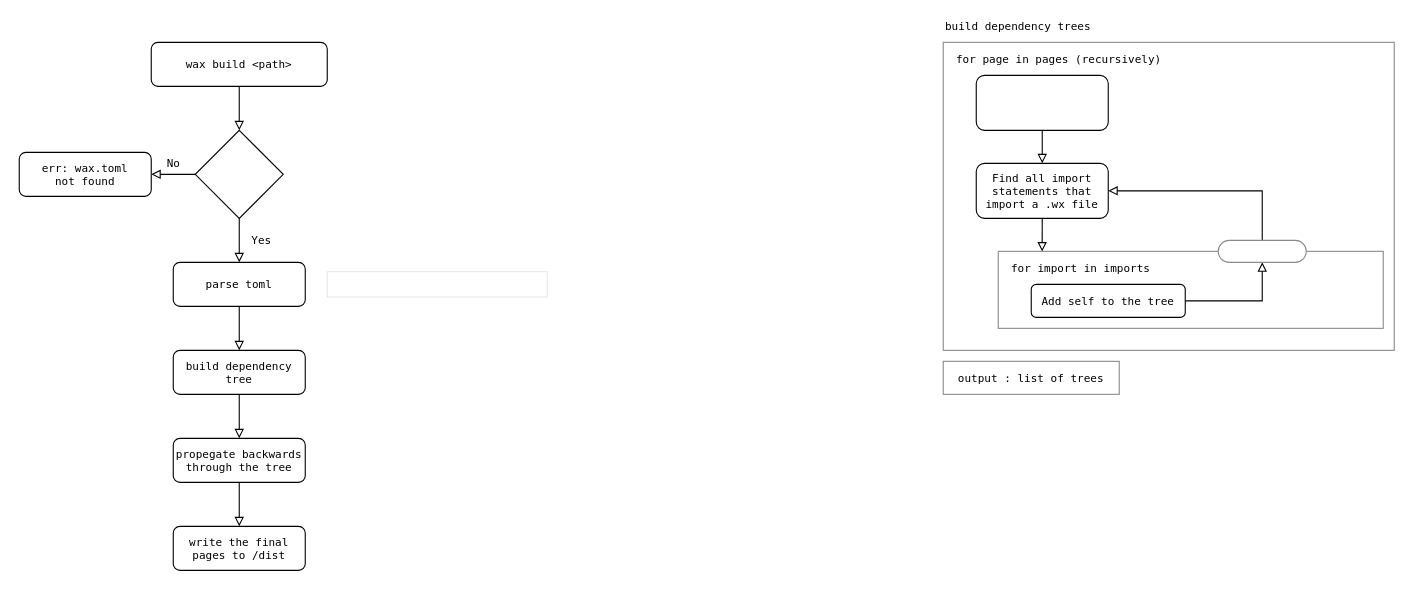
This 1414x590 diagram has some shape labels left out. Here are the shapes that lost their labels. From the top down, the box of each, then its label:
(975, 74, 1108, 130): Create new tree & set self as base
(194, 129, 283, 218): wax.toml found?
(1217, 239, 1306, 262): Recurse
(327, 271, 547, 297): Parse Toml Config
